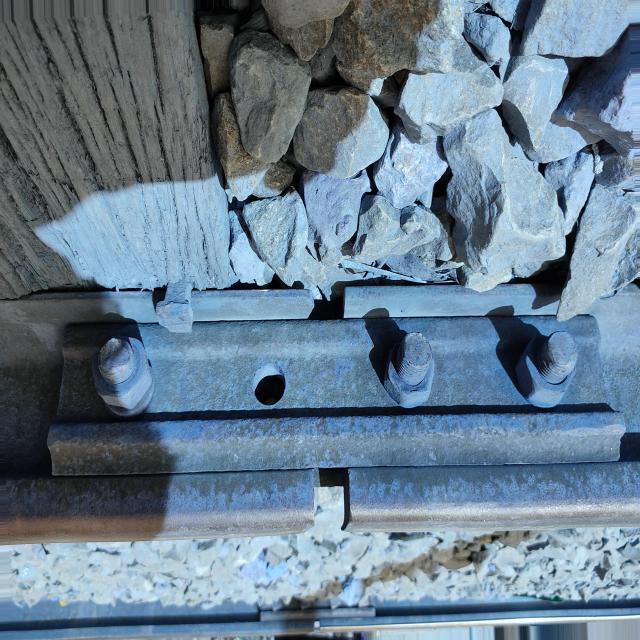Defective Joint: (45, 314, 635, 474)
Good Fasteners: (156, 280, 193, 333)
